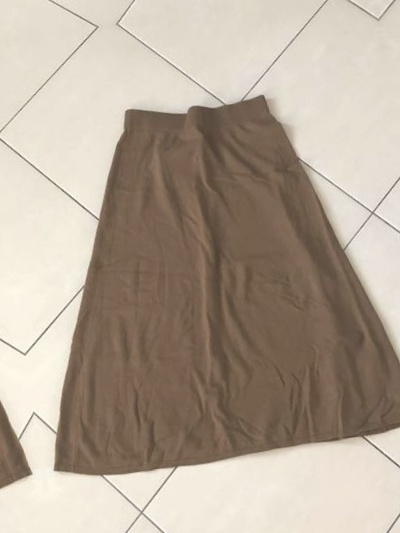Dress: (31, 63, 400, 509), (0, 128, 7, 533)
